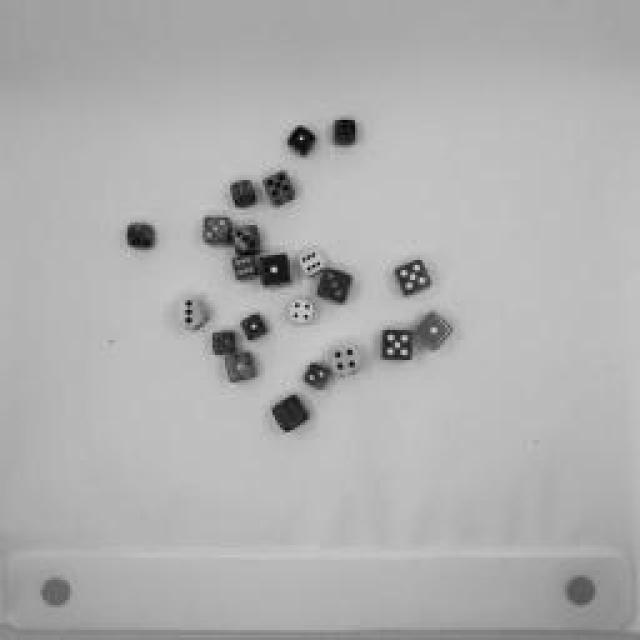dice_1: (413, 314, 455, 356), (255, 250, 293, 295), (282, 121, 322, 161), (221, 349, 259, 386), (234, 314, 276, 346)
dice_3: (310, 265, 358, 310), (171, 298, 211, 332), (200, 212, 232, 248), (230, 225, 268, 255)
dice_4: (328, 349, 372, 381), (284, 296, 321, 329)
dice_5: (376, 251, 439, 301), (120, 215, 165, 260), (261, 165, 301, 210), (375, 326, 415, 369), (208, 326, 242, 359)
dice_6: (258, 391, 318, 439), (330, 118, 365, 152), (226, 179, 259, 211), (225, 255, 260, 285), (298, 251, 328, 279)
